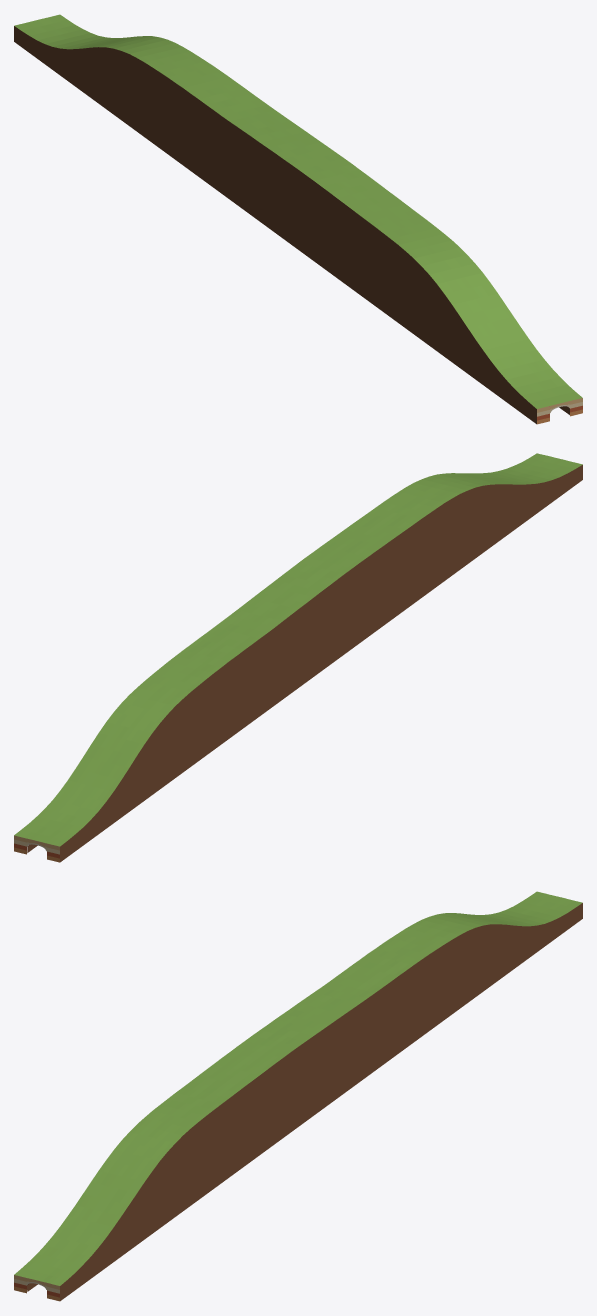
Rendered from tunel_05p.glb.
3 views of the same model, one above another, from view 1: azimuth 30°, elevation 25°; view 2: azimuth 150°, elevation 25°; view 3: azimuth 330°, elevation 25° (orthographic).
Visible parts, largest first — view 1: tunel_05p; view 2: tunel_05p; view 3: tunel_05p.
Boxes of the visible parts, left/top/right/bottom form: tunel_05p: left=14, top=14, right=582, bottom=424; tunel_05p: left=14, top=453, right=582, bottom=862; tunel_05p: left=14, top=891, right=582, bottom=1301.
Bounding box in the file's own units: 84 × 140 × 1653.
